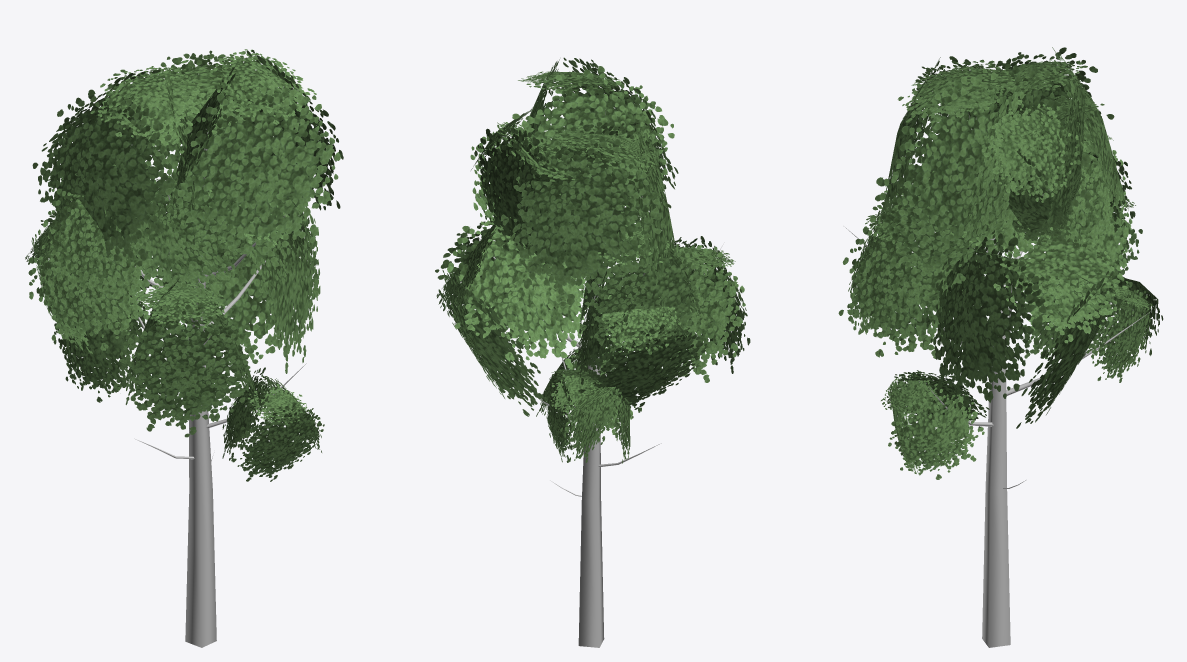
The model's file is Tree.fbx.
The picture shows the model from 3 angles, left to right: view 1: azimuth 30°, elevation 25°; view 2: azimuth 150°, elevation 25°; view 3: azimuth 270°, elevation 25°; orthographic projection. The views are drawn at different scales.
Parts seen in each view (by area): view 1: leaves, tree; view 2: leaves, tree; view 3: leaves, tree.
Part boxes in pixels (bbox=[...]): leaves: bbox=[25, 49, 343, 481]; tree: bbox=[135, 104, 308, 647]; leaves: bbox=[435, 57, 750, 463]; tree: bbox=[471, 109, 724, 647]; leaves: bbox=[838, 47, 1163, 479]; tree: bbox=[845, 113, 1150, 647].
Size of the model in its own units: 504 by 977 by 513.
